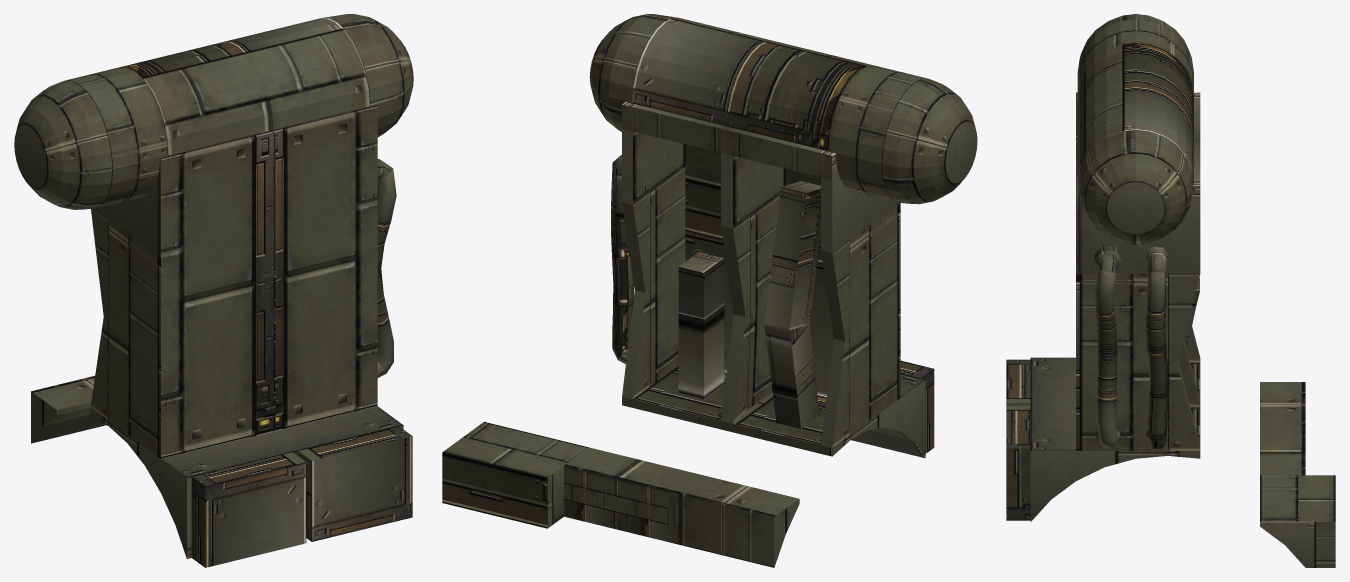
Rendered from Tower.glb.
3 renders of one model, left to right at view 1: azimuth 30°, elevation 25°; view 2: azimuth 150°, elevation 25°; view 3: azimuth 270°, elevation 25°, orthographic. The views are drawn at different scales.
Parts seen in each view (by area): view 1: Tower; view 2: Tower; view 3: Tower.
Part boxes in pixels (x1,y1,x2,y2): Tower: [14, 14, 413, 567]; Tower: [442, 14, 977, 567]; Tower: [1006, 14, 1335, 567].
Size of what is drawn, in the model's own units: 22.83 by 22.88 by 17.51.
2 materials, 2 textured.
